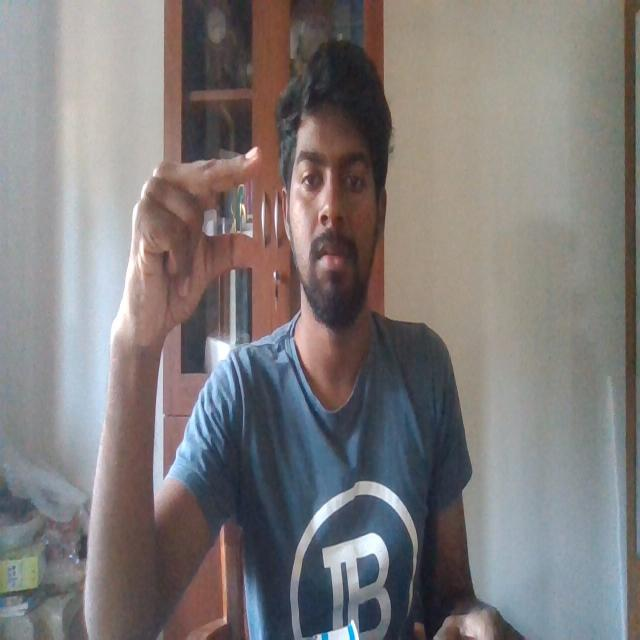No: (112, 137, 269, 333)
